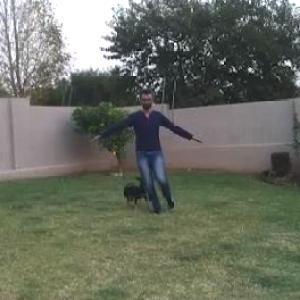land: (86, 94, 194, 222)
